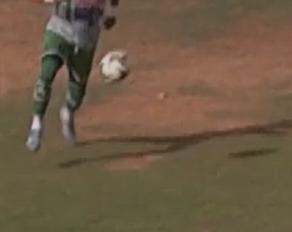ball: (97, 46, 133, 86)
